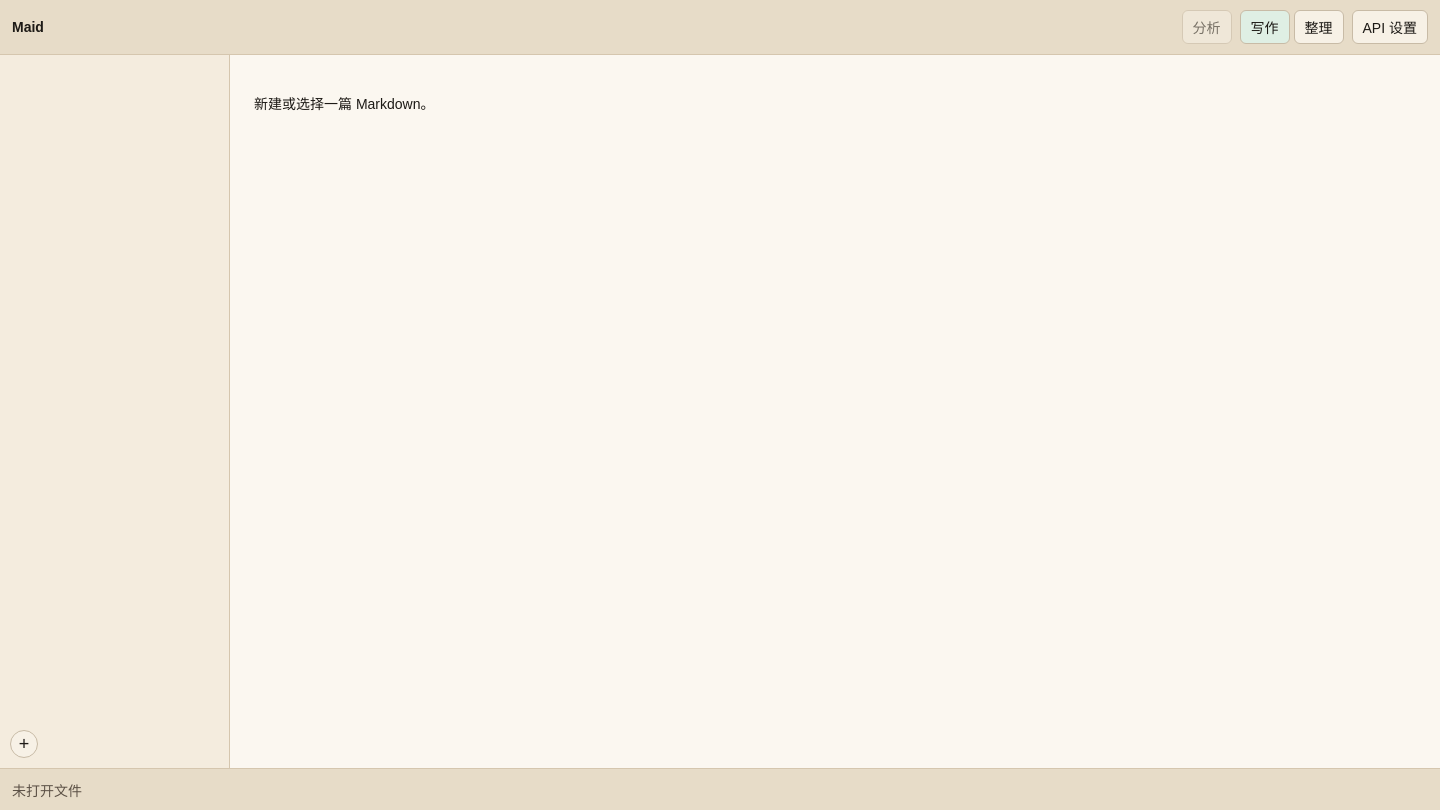
Test: 界面故事 › 空白文件栏右键可以导入
This screenshot has width=1440, height=810.
Expected: the button named "新建" is shown, x1=10 y1=730 x2=38 y2=758
Right-click the element with class "files": coordinates (115, 412) x1=0 y1=55 x2=230 y2=768
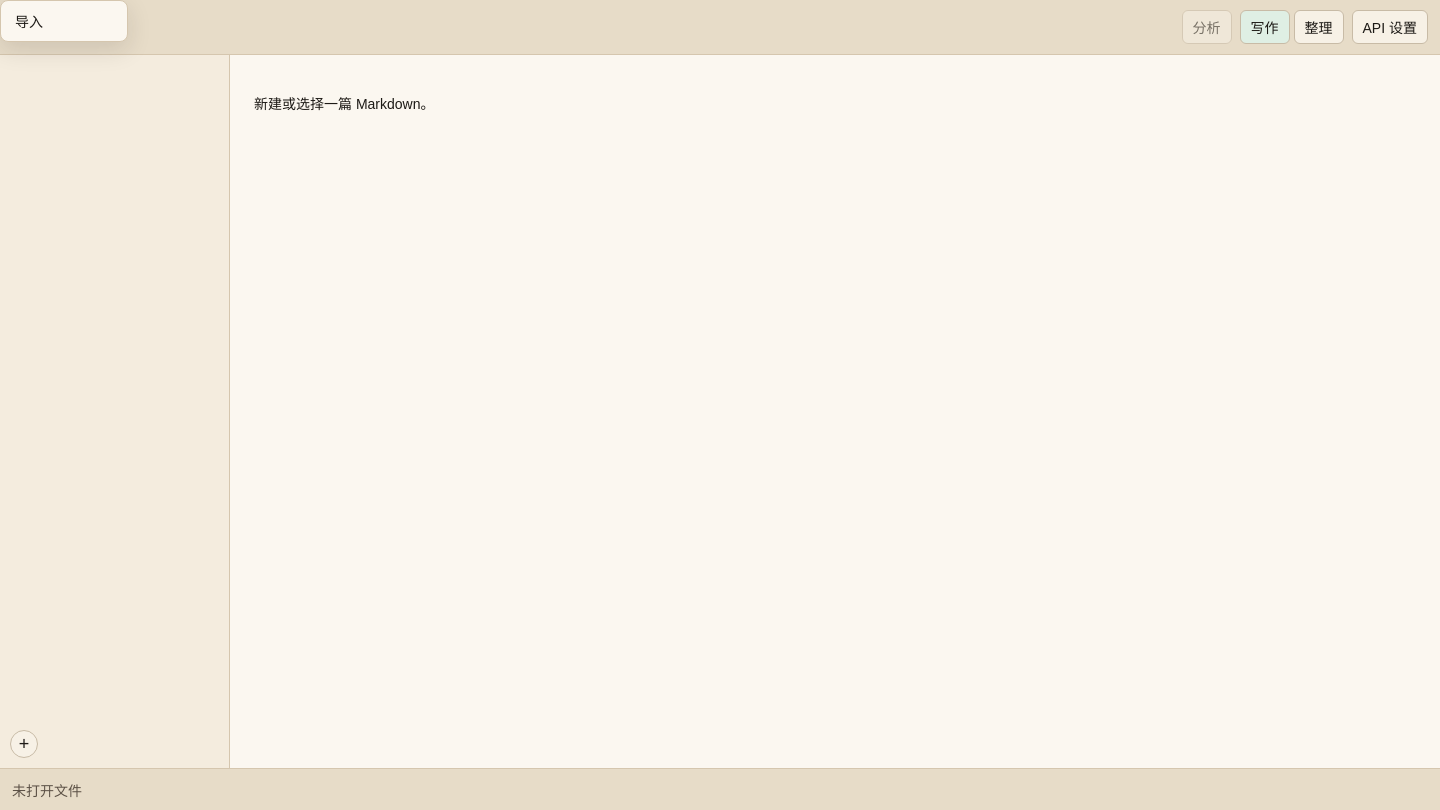
Result: the menu item "导入" is shown
Click the menu item "导入": coordinates (64, 21) x1=5 y1=5 x2=123 y2=37
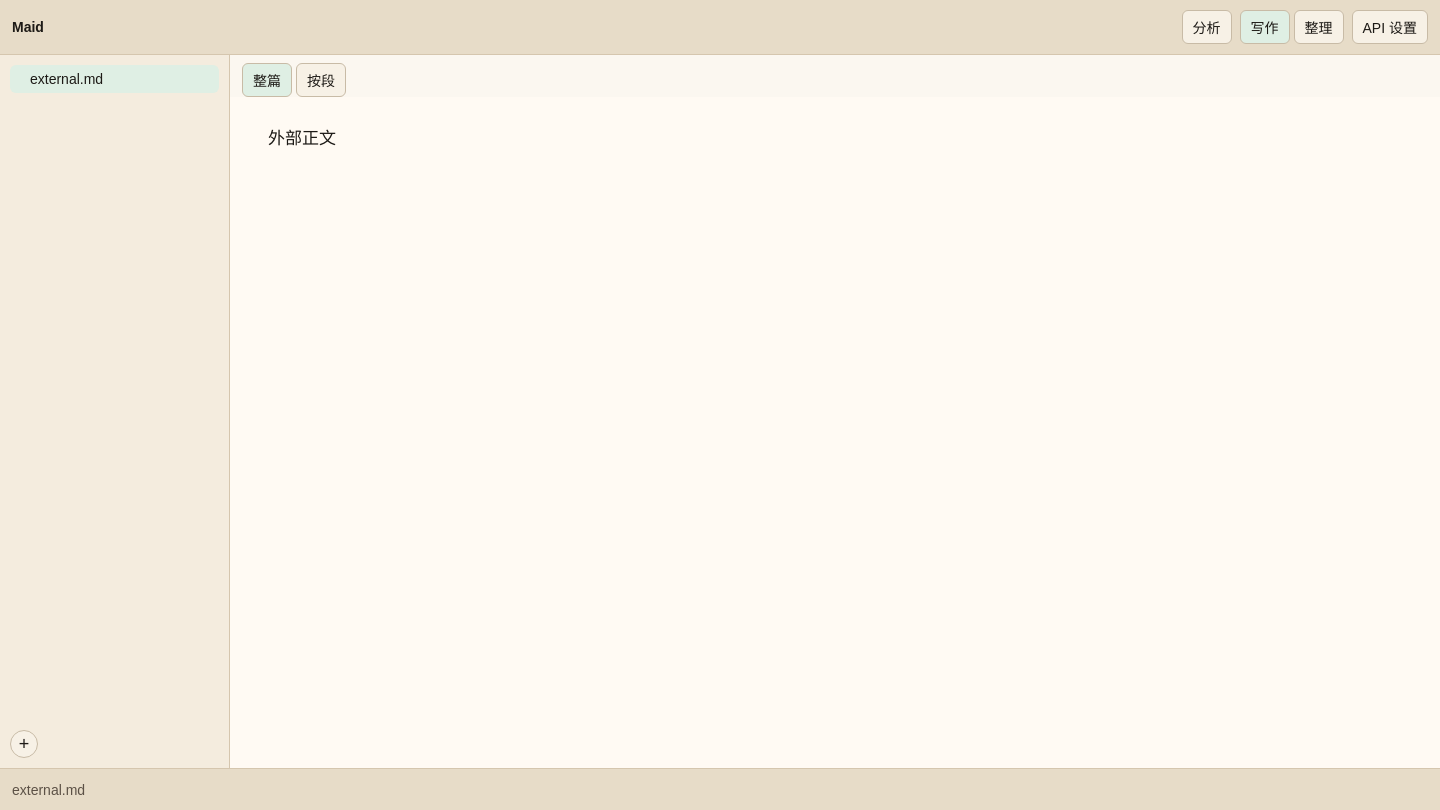
Result: the button "external.md" is shown at x1=10 y1=65 x2=219 y2=93
Result: the text box labelled "外部正文" is shown at x1=268 y1=129 x2=336 y2=148
